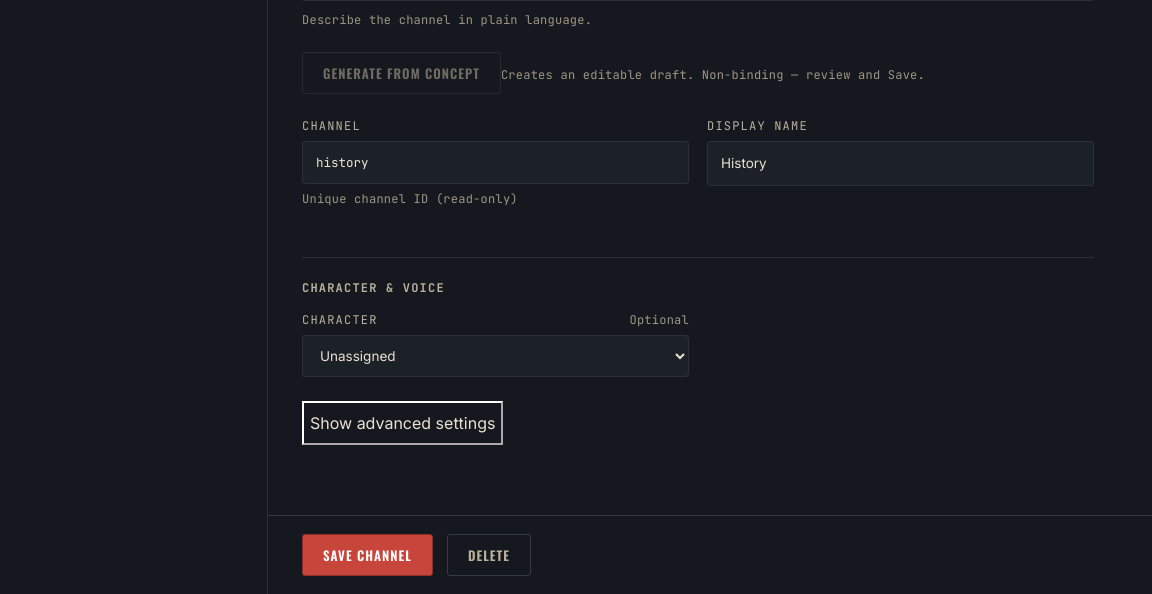
Test: ChannelProfilesPanel saves › rejects an edited channel identity before any RPC or upsert
(page scrolled)
Expected: the field labelled "Channel" is shown, [302, 141, 689, 184]
Click the button "Save channel". click: (367, 555)
box: [302, 534, 433, 576]
(page scrolled)
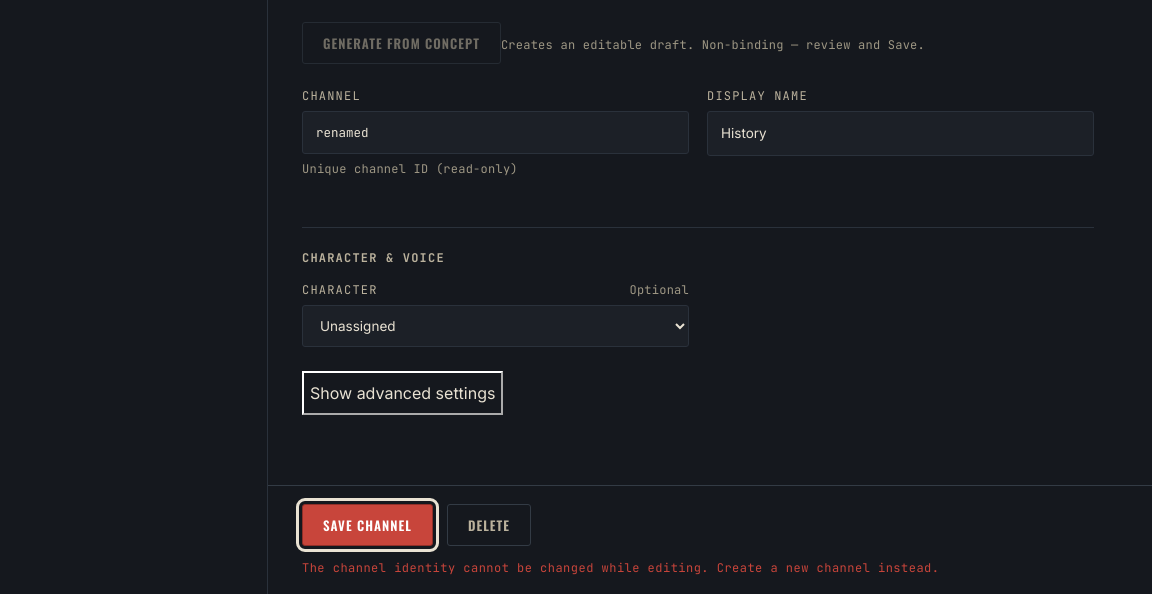
Expected: the text "channel identity cannot be changed" is shown, [302, 560, 940, 576]
